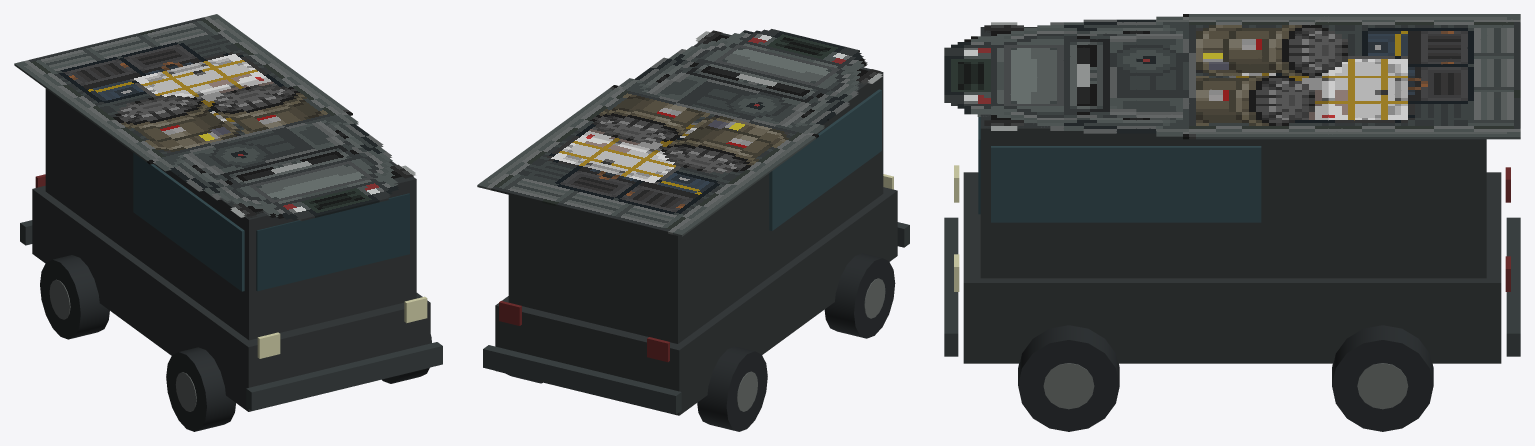
The model's file is CMU3DReduxAU14VehicleCivArmoredTruck.glb.
3 views of the same model, side by side, from view 1: azimuth 30°, elevation 25°; view 2: azimuth 150°, elevation 25°; view 3: azimuth 270°, elevation 25° (orthographic). The views are drawn at different scales.
Parts seen in each view (by area): view 1: source hull roof panel (×3), upper hull, closed lower chassis, cab windscreen, road tire (×2), cab side window, front bumper, wheel hub (×2), front light (×2); view 2: source hull roof panel (×3), upper hull, closed lower chassis, road tire (×2), cab side window, rear bumper, wheel hub (×2), rear marker (×2); view 3: source hull roof panel (×3), upper hull, closed lower chassis, cab side window, road tire (×2), wheel hub (×2), rear bumper, front bumper.
Part boxes in pixels (box(x1,y1,x2,y2)): source hull roof panel (×3): box(14, 14, 415, 221); upper hull: box(45, 88, 416, 340); closed lower chassis: box(32, 185, 430, 411); cab windscreen: box(256, 193, 409, 291); road tire (×2): box(40, 255, 235, 431); cab side window: box(133, 153, 244, 291); front bumper: box(246, 342, 442, 410); wheel hub (×2): box(49, 279, 196, 411); front light (×2): box(257, 296, 427, 358); source hull roof panel (×3): box(477, 29, 882, 236); upper hull: box(508, 33, 883, 343); closed lower chassis: box(495, 187, 897, 415); road tire (×2): box(697, 253, 895, 431); cab side window: box(769, 89, 881, 230); rear bumper: box(483, 345, 681, 414); wheel hub (×2): box(737, 278, 885, 411); rear marker (×2): box(499, 301, 669, 362); source hull roof panel (×3): box(944, 14, 1520, 139); upper hull: box(980, 27, 1486, 278); closed lower chassis: box(963, 172, 1501, 363); cab side window: box(991, 146, 1261, 222); road tire (×2): box(1018, 325, 1433, 431); wheel hub (×2): box(1043, 363, 1408, 409); rear bumper: box(1506, 217, 1520, 356); front bumper: box(944, 217, 958, 356).
Bounding box in the file's own units: 1.54 × 1.49 × 2.72.
11 materials, 3 textured.
